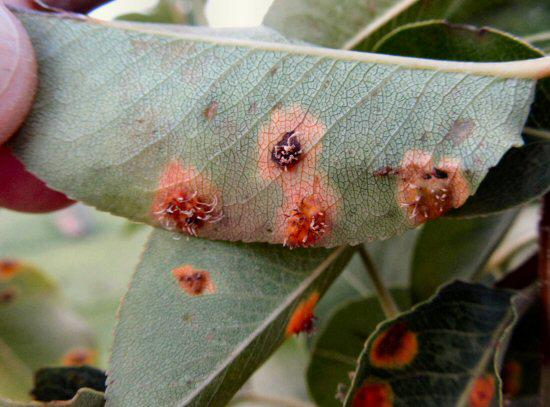Apple rust leaf: (34, 5, 550, 260)
